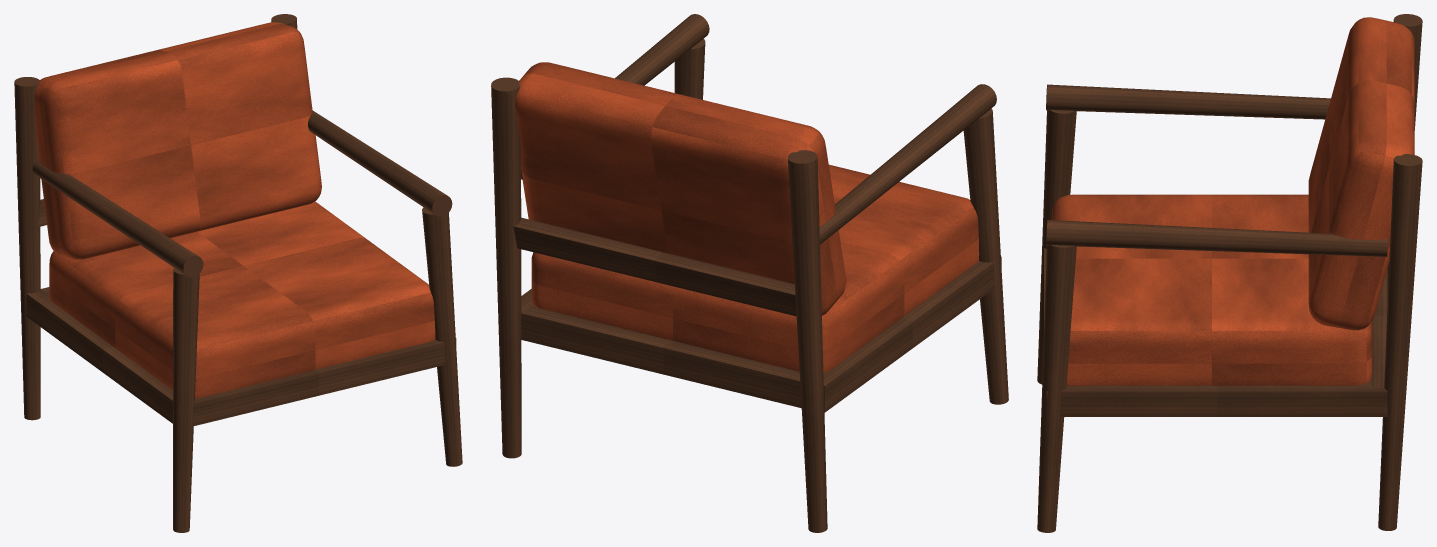
Rendered from sillon.glb.
3 views of the same model, side by side, from view 1: azimuth 30°, elevation 25°; view 2: azimuth 150°, elevation 25°; view 3: azimuth 270°, elevation 25° (orthographic). The views are drawn at different scales.
Parts seen in each view (by area): view 1: Cuero_cognac, Madera_nogal; view 2: Cuero_cognac, Madera_nogal; view 3: Cuero_cognac, Madera_nogal.
Part boxes in pixels (bbox=[...]): Cuero_cognac: bbox=[34, 22, 435, 398]; Madera_nogal: bbox=[14, 14, 462, 532]; Cuero_cognac: bbox=[515, 62, 979, 372]; Madera_nogal: bbox=[491, 14, 1008, 532]; Cuero_cognac: bbox=[1051, 17, 1414, 385]; Madera_nogal: bbox=[1037, 14, 1422, 532].
Size of the model in its own units: 0.716 by 0.8025 by 0.7459.
2 materials, 2 textured.
